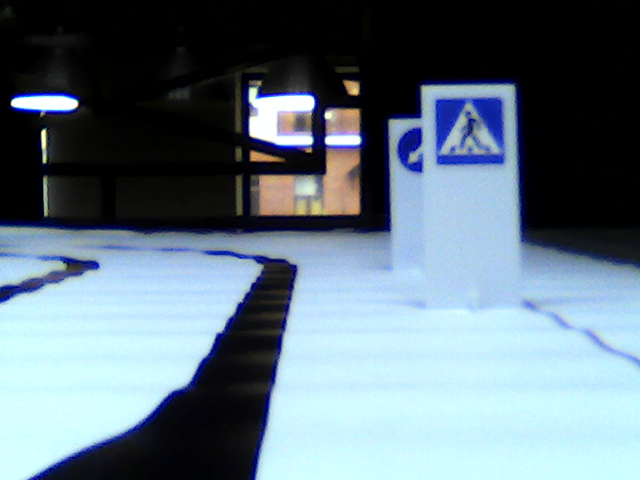pesh: (435, 96, 505, 165)
